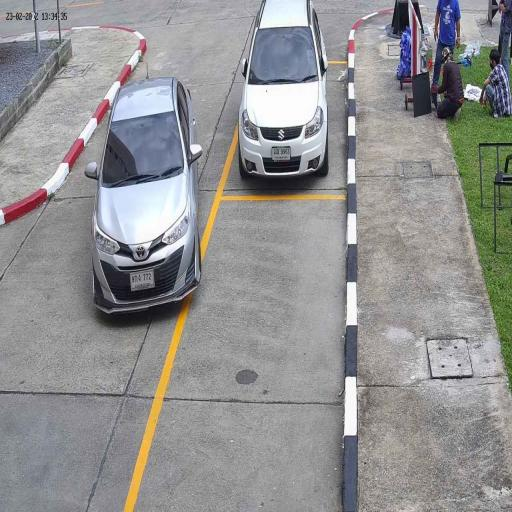car: (91, 76, 202, 316), (238, 0, 329, 181)
